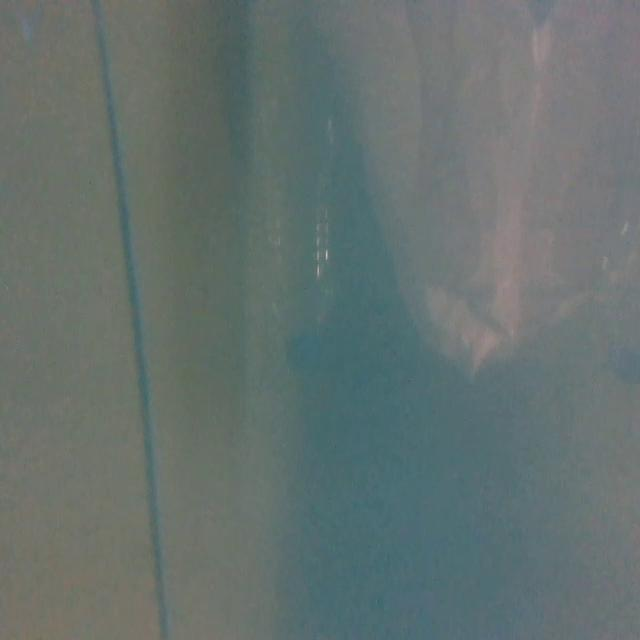plastic bags: (355, 0, 640, 383)
plastic bottle: (260, 42, 370, 399)
